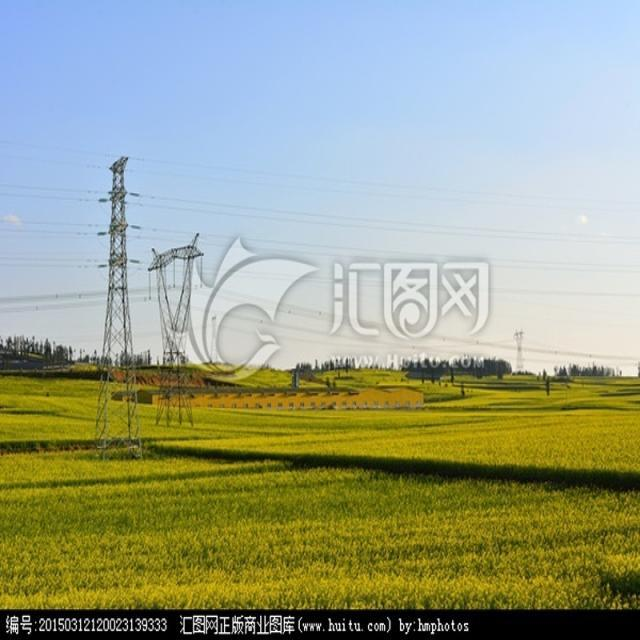non-critical vegetation: (84, 147, 150, 464), (143, 237, 220, 428)
